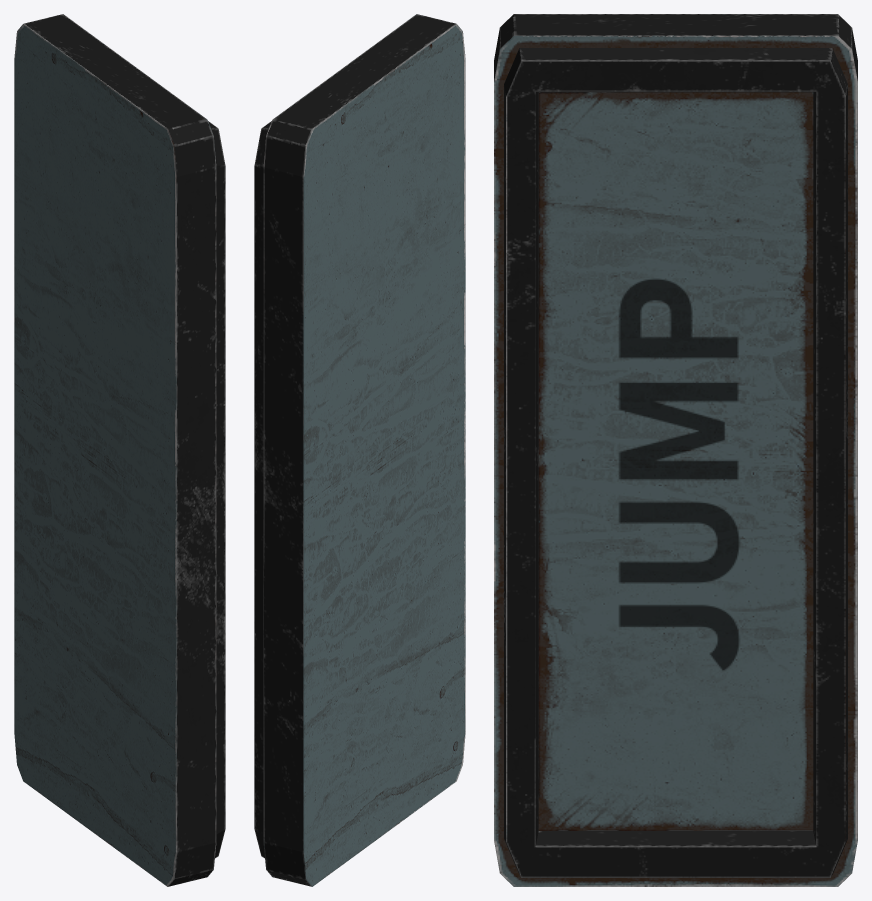
File: Jump.gltf
3 views of the same model, side by side, from view 1: azimuth 30°, elevation 25°; view 2: azimuth 150°, elevation 25°; view 3: azimuth 270°, elevation 25° (orthographic). The views are drawn at different scales.
Visible parts, largest first — view 1: Cube.005; view 2: Cube.005; view 3: Cube.005.
Boxes of the visible parts, x1,y1,x2,y2 form: Cube.005: (14, 14, 225, 886); Cube.005: (254, 14, 465, 886); Cube.005: (494, 14, 857, 886).
Bounding box in the file's own units: 0.1759 × 2.33 × 0.9039.
Materials: 1 (1 with a texture image).
